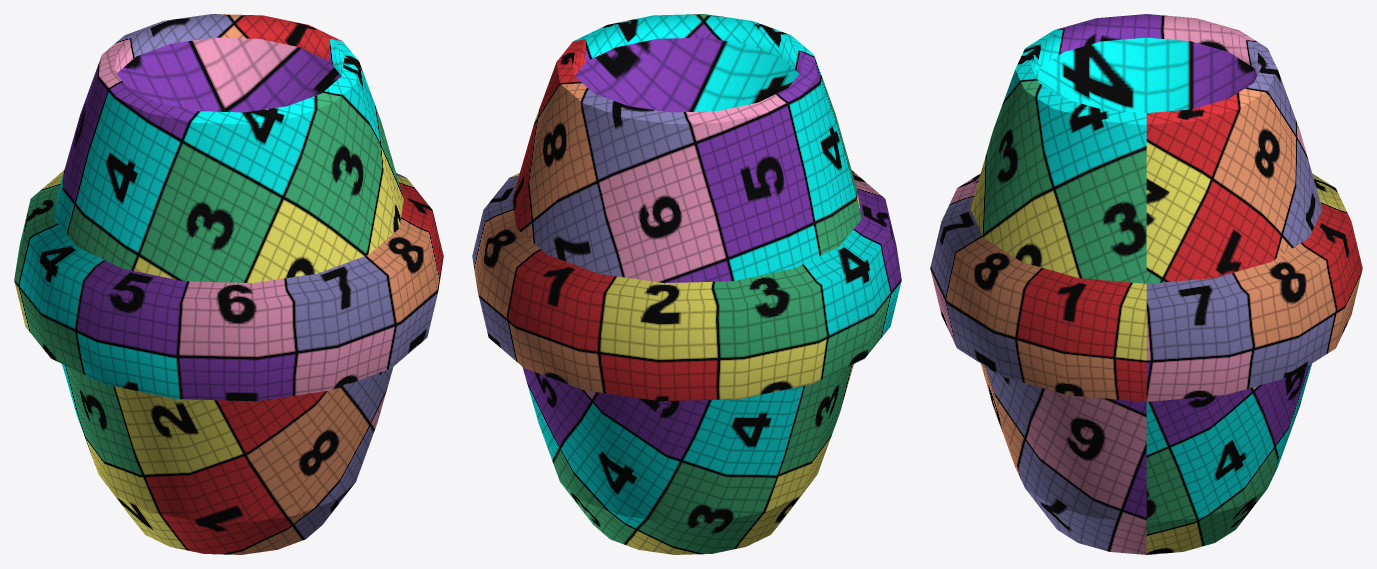
The model's file is fiber_connect_01.fbx.
3 views of the same model, side by side, from view 1: azimuth 30°, elevation 25°; view 2: azimuth 150°, elevation 25°; view 3: azimuth 270°, elevation 25° (orthographic).
Visible parts, largest first — view 1: fiber_connect_01; view 2: fiber_connect_01; view 3: fiber_connect_01.
Boxes of the visible parts, left/top/right/bottom form: fiber_connect_01: left=14, top=14, right=443, bottom=554; fiber_connect_01: left=472, top=14, right=901, bottom=554; fiber_connect_01: left=930, top=14, right=1362, bottom=554.
Bounding box in the file's own units: 90.34 × 111 × 90.34.
Materials: 1 (1 with a texture image).
